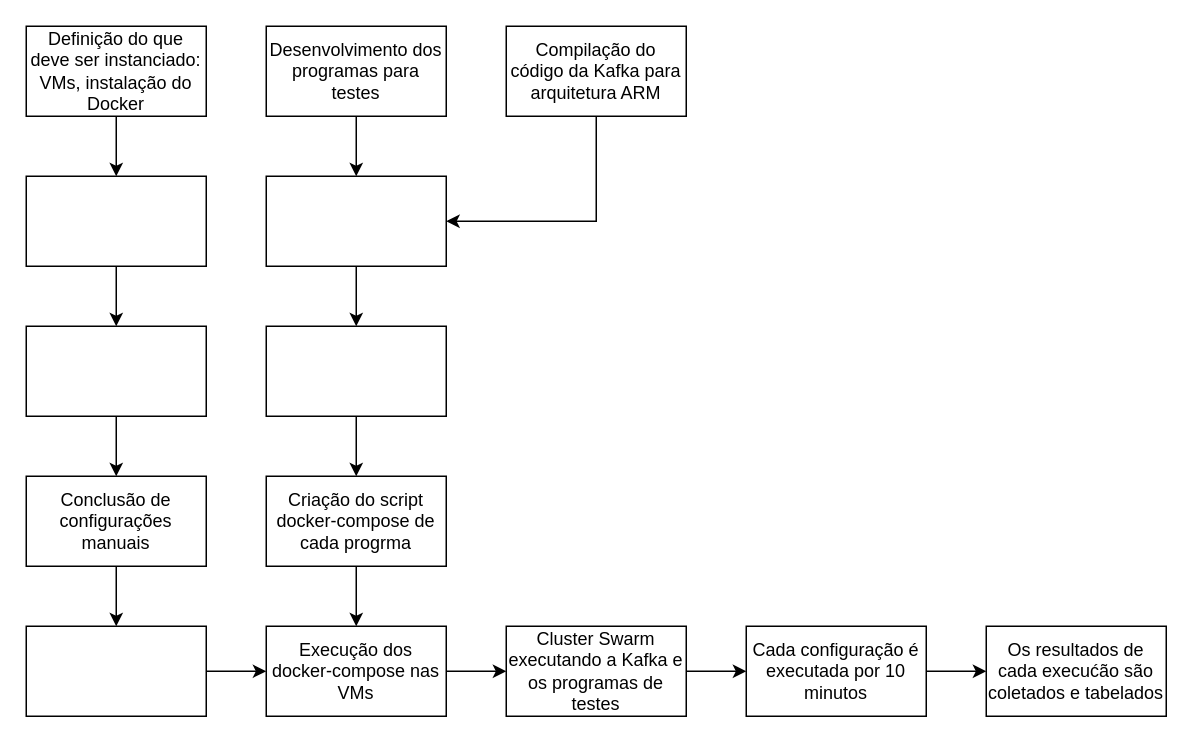
This 1193x743 diagram has some shape labels left out. Here are the shapes that lost their labels. From the top down, the centre of each, then its label:
point 115,220: Criação dos scripts terraform para configuração da OCI
point 355,220: Criação de conteineres
point 115,370: Execução dos scripts terraforma pelo Resource Manager
point 355,370: Disponibilização das imagens dos contêineres no DockerHub
point 115,670: Máquinas disponibilizadas
